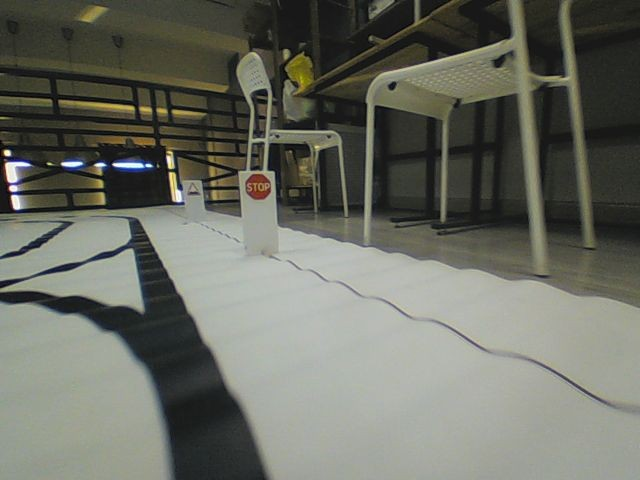Nerov: (186, 181, 200, 196)
Stop: (243, 173, 272, 201)
